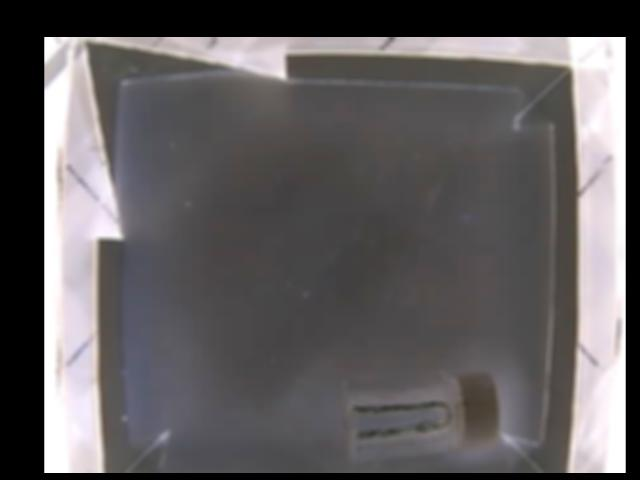Bottle: (346, 372, 502, 463)
